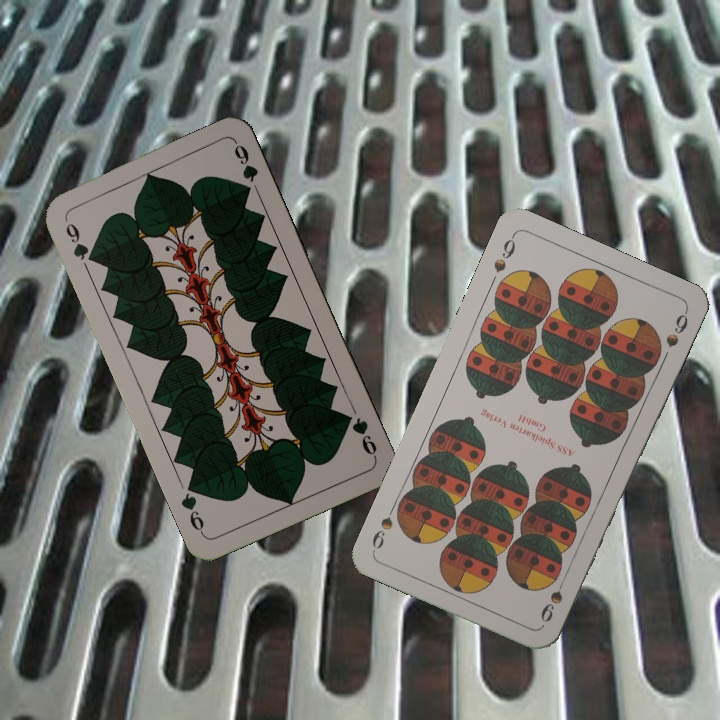G9: (339, 409, 380, 461), (61, 219, 99, 266)
S9: (536, 571, 570, 625), (489, 231, 519, 276)
